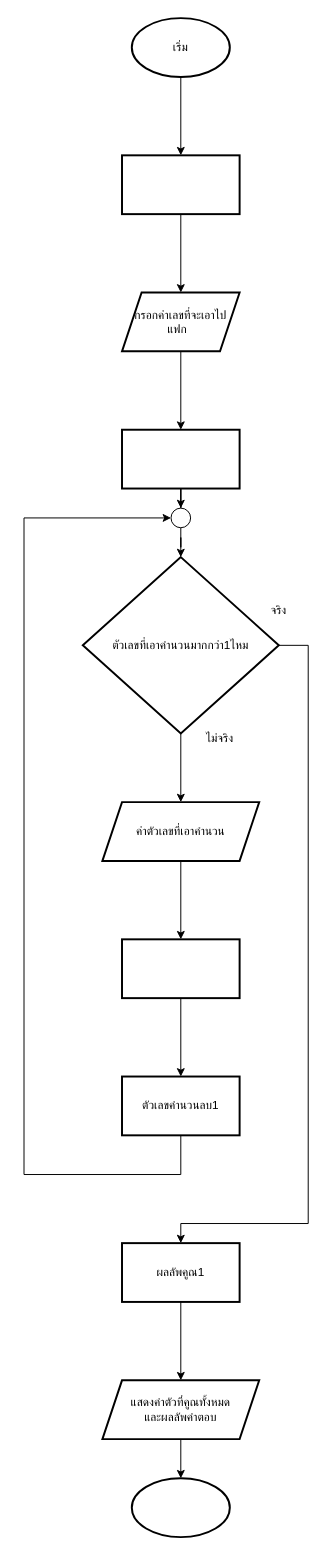
Image size: 333x1554. Some labels were removed from this diagram. Here are the shapes that lost their labels. From the top down, the centre of each, then its label:
At (180,184): "กำหนดตัวแปร ตัวเลขเข้า ผลลัพ".
At (180,458): "กำหนดตัวแปรตัวเลขขาเข้าเท่ากับเลขที่เอาคำนวน".
At (180,968): "ผลลัพเท่ากับผลลัพคูณตัวเลขคำนวน".
At (180,1507): "จบ".
